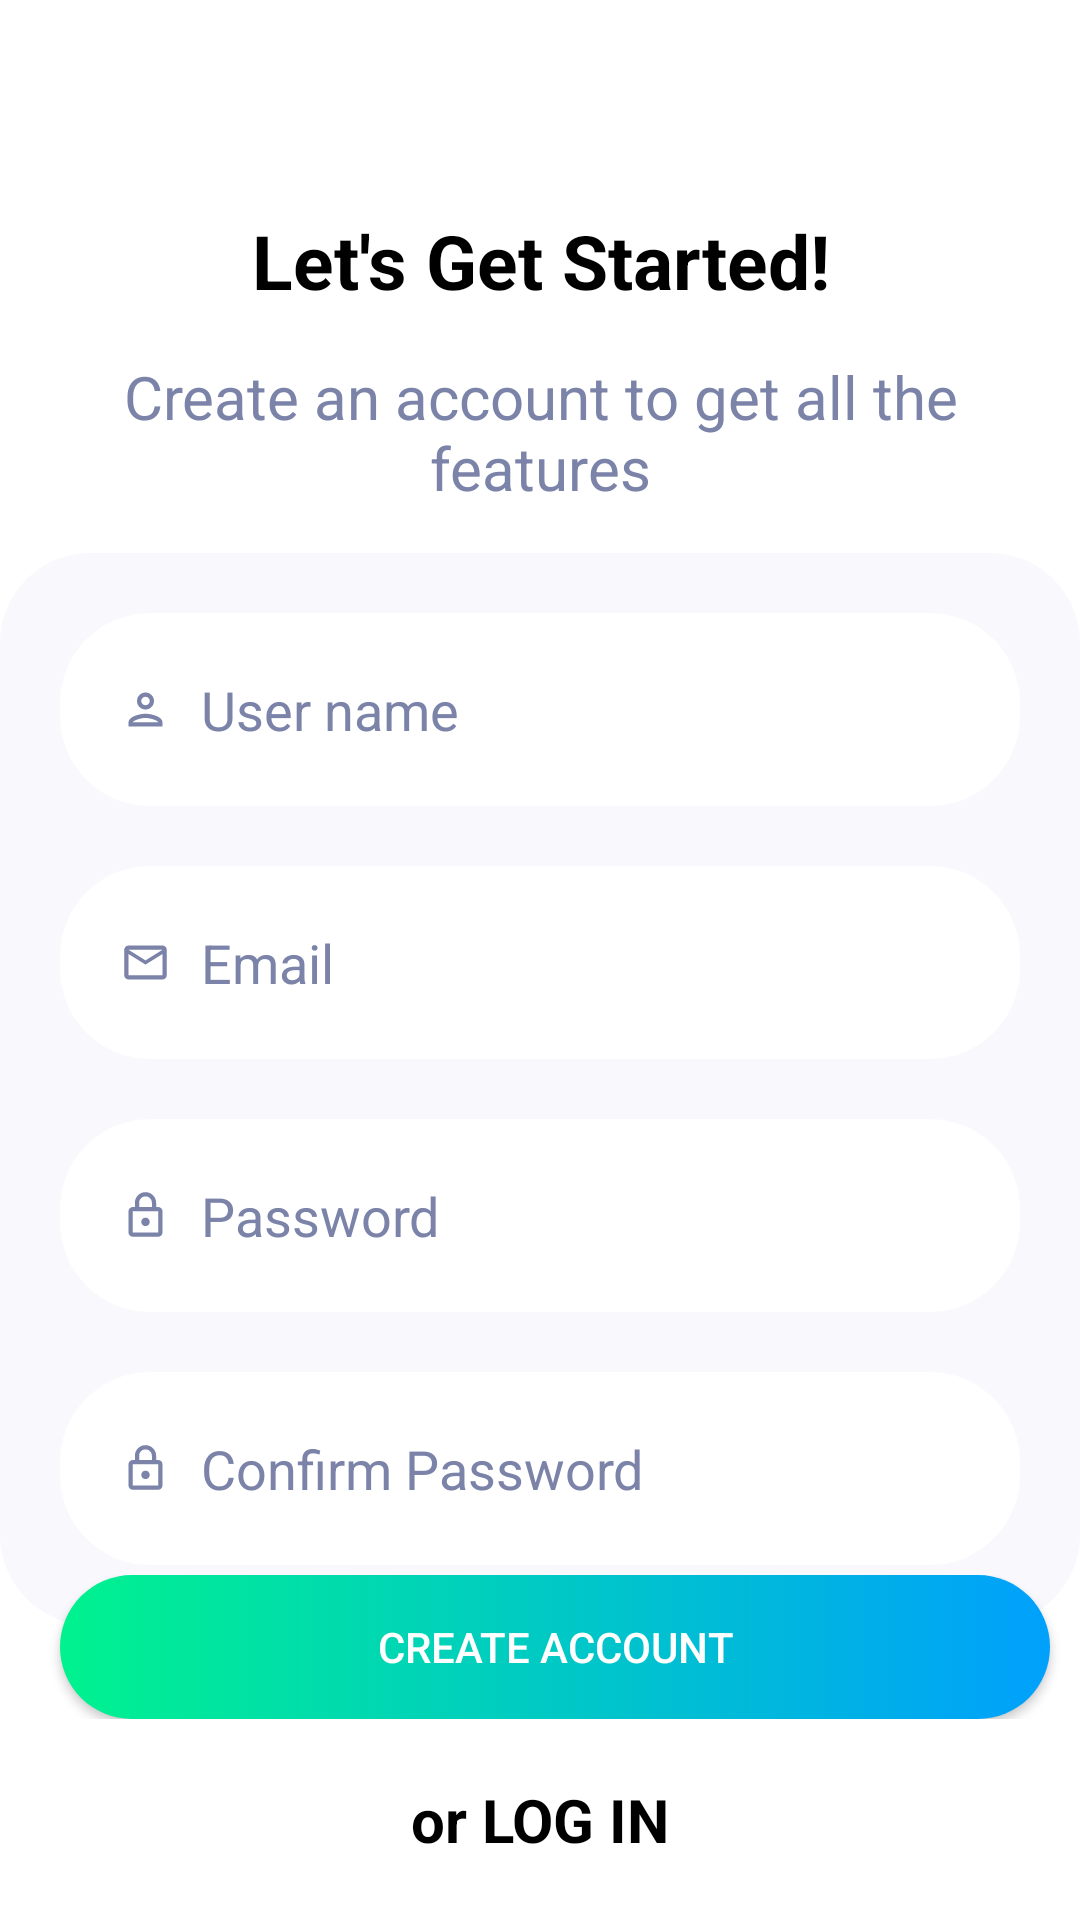

Screen size 1080px x 1920px. Icon name, then its box in pixels as [left=x1, top=y1, right=x2, bottom=y2]:
lock: [left=128, top=1192, right=163, bottom=1237], [left=128, top=1445, right=163, bottom=1490]
person: [left=128, top=692, right=163, bottom=727]
